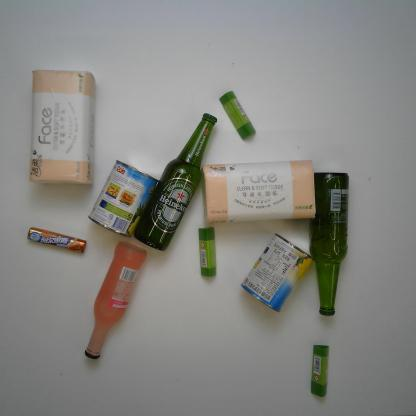Alcohol: (132, 110, 219, 252), (82, 238, 148, 360), (306, 170, 353, 318)
Candy: (25, 225, 86, 256)
Canned Food: (242, 231, 315, 313), (87, 159, 160, 239)
Stationery: (219, 89, 254, 142), (196, 224, 219, 280), (308, 344, 331, 400)
Tissue: (26, 68, 98, 188), (200, 157, 318, 225)
